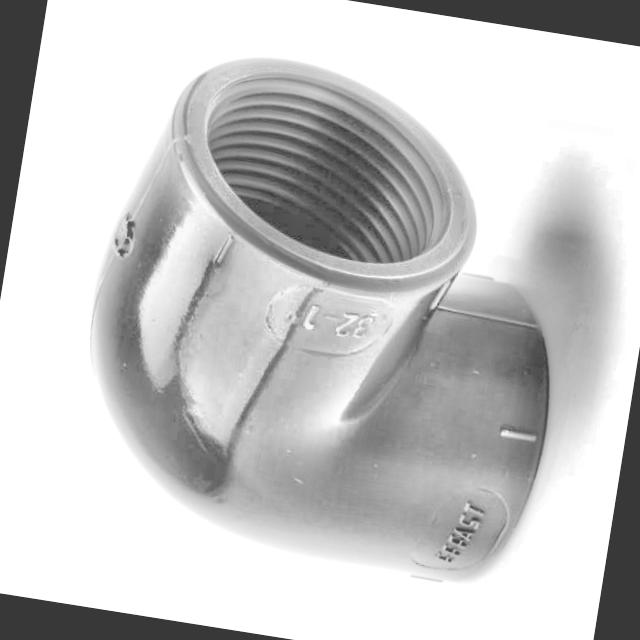ELBOW90: (87, 55, 555, 585)
